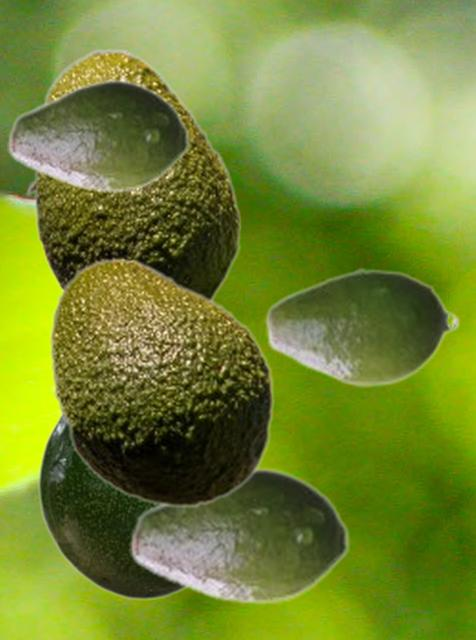avocado: (48, 257, 274, 508), (25, 48, 241, 300), (129, 466, 350, 605), (37, 412, 188, 600), (263, 266, 460, 388), (7, 78, 190, 193)
